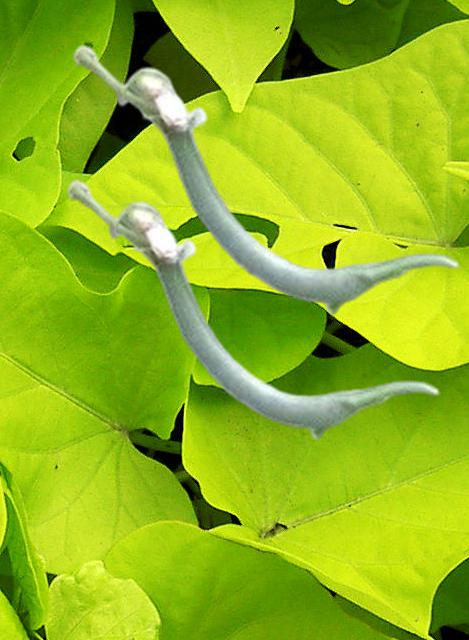french_bean: (72, 43, 459, 315), (66, 178, 439, 440)
